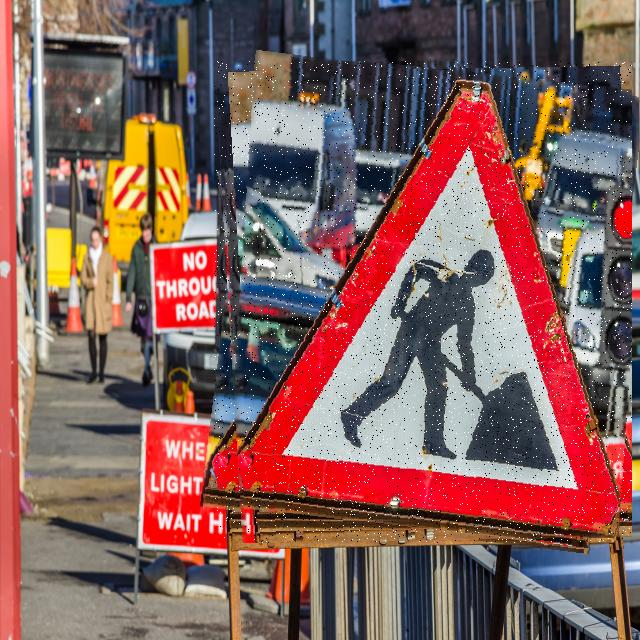roadwork: (214, 61, 632, 543)
